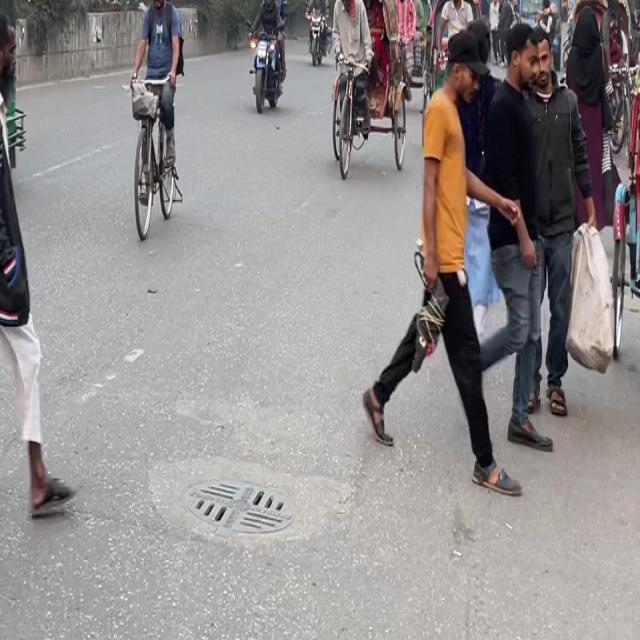bicycle: (111, 0, 203, 251)
motorbike: (324, 0, 406, 188), (246, 0, 288, 115)
rickshaw: (0, 0, 33, 227)
